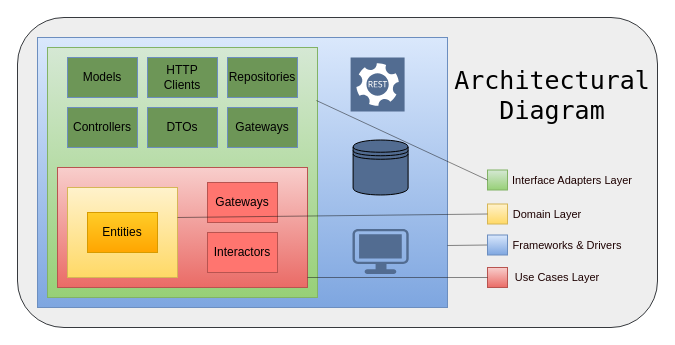
This 675x345 diagram has some shape labels left out. Each missing label, with the centre of its shape:
DB: (x=380, y=167)
UI: (x=380, y=251)
